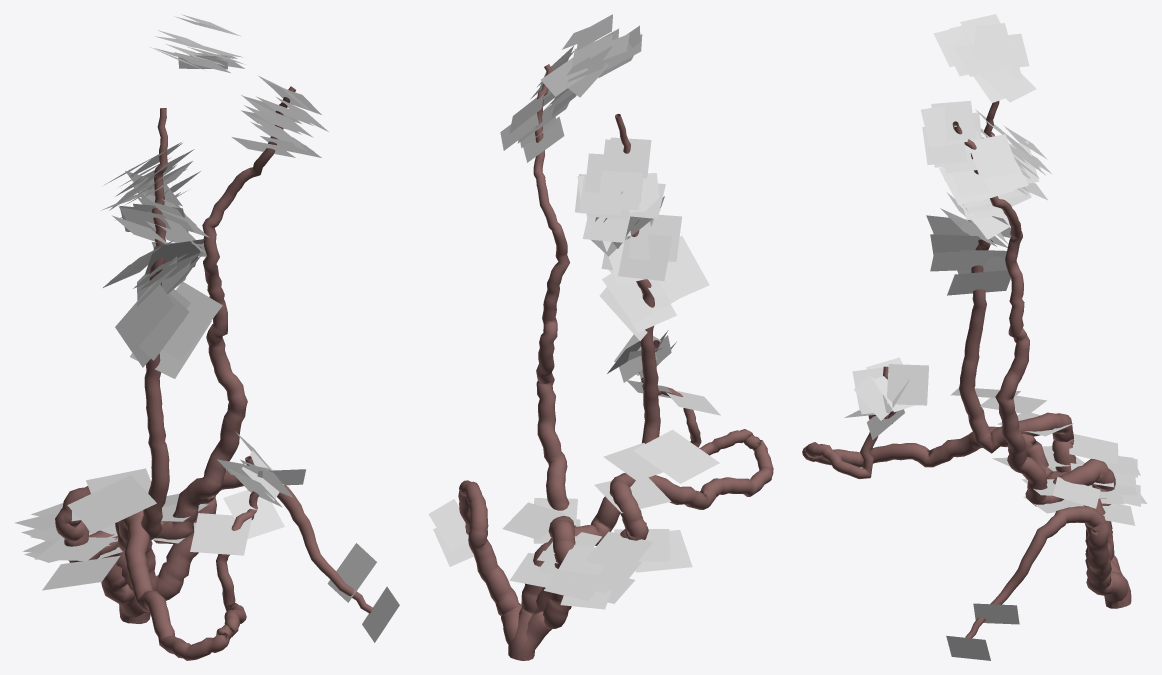
The model's file is big ivy 3.fbx.
The picture shows the model from 3 angles, left to right: view 1: azimuth 30°, elevation 25°; view 2: azimuth 150°, elevation 25°; view 3: azimuth 270°, elevation 25°; orthographic projection. The views are drawn at different scales.
Visible parts, largest first — view 1: IvyLeaf.021, IVY_Curve.016, IVY_Curve.015, IVY_Curve.014, IvyLeaf.018, IVY_Curve.013, IvyLeaf.020, IvyLeaf, IvyLeaf.017; view 2: IvyLeaf.021, IVY_Curve.016, IvyLeaf, IVY_Curve.014, IVY_Curve.015, IVY_Curve.013, IvyLeaf.020, IvyLeaf.018, IvyLeaf.017; view 3: IvyLeaf.021, IvyLeaf.020, IVY_Curve.016, IvyLeaf, IVY_Curve.015, IVY_Curve.014, IVY_Curve.013, IvyLeaf.018, IvyLeaf.017.
Boxes of the visible parts, x1,y1,x2,y2 form: IvyLeaf.021: (14, 142, 222, 590); IVY_Curve.016: (97, 86, 295, 623); IVY_Curve.015: (55, 108, 169, 622); IVY_Curve.014: (115, 456, 258, 660); IvyLeaf.018: (190, 431, 305, 555); IVY_Curve.013: (125, 470, 373, 623); IvyLeaf.020: (111, 75, 328, 543); IvyLeaf: (150, 14, 244, 521); IvyLeaf.017: (327, 543, 399, 642); IvyLeaf.021: (509, 137, 719, 609); IVY_Curve.016: (510, 64, 575, 660); IvyLeaf: (502, 14, 642, 540); IVY_Curve.014: (508, 340, 773, 659); IVY_Curve.015: (508, 114, 660, 660); IVY_Curve.013: (458, 480, 534, 657); IvyLeaf.020: (500, 45, 580, 577); IvyLeaf.018: (607, 330, 720, 415); IvyLeaf.017: (428, 499, 473, 566); IvyLeaf.021: (926, 109, 1147, 525); IvyLeaf.020: (920, 100, 1115, 513); IVY_Curve.016: (952, 121, 1131, 605); IvyLeaf: (933, 14, 1100, 508); IVY_Curve.015: (959, 101, 1131, 607); IVY_Curve.014: (802, 366, 1130, 607); IVY_Curve.013: (965, 506, 1130, 638); IvyLeaf.018: (844, 357, 928, 439); IvyLeaf.017: (946, 603, 1019, 660).
Size of the model in its own units: 63.52 by 126 by 68.34.
